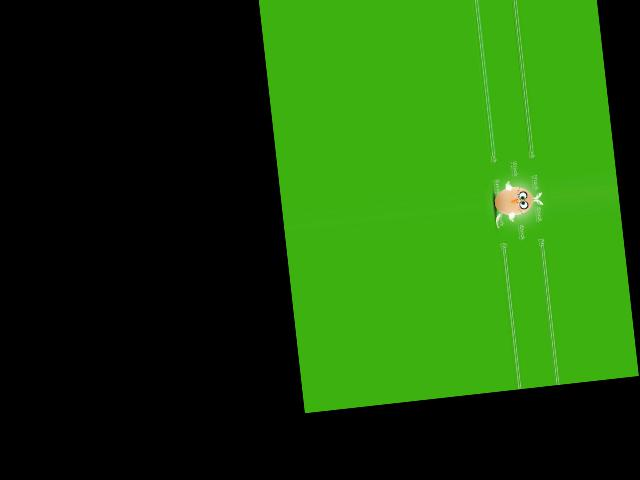egg: (492, 185, 534, 217)
